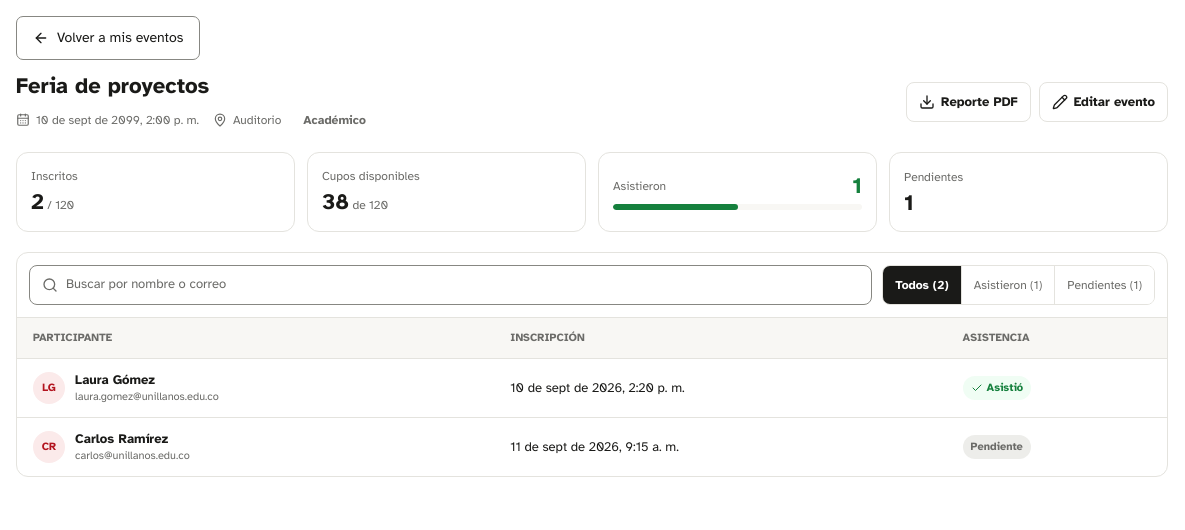
Scenario: ParticipantesEvento › muestra el error del backend si no se puede generar el reporte PDF
Expected: the heading "Feria de proyectos" is shown, [16,72,209,99]
Step 1. Click the button "Reporte PDF" → (968, 102), box [906,82,1031,122]
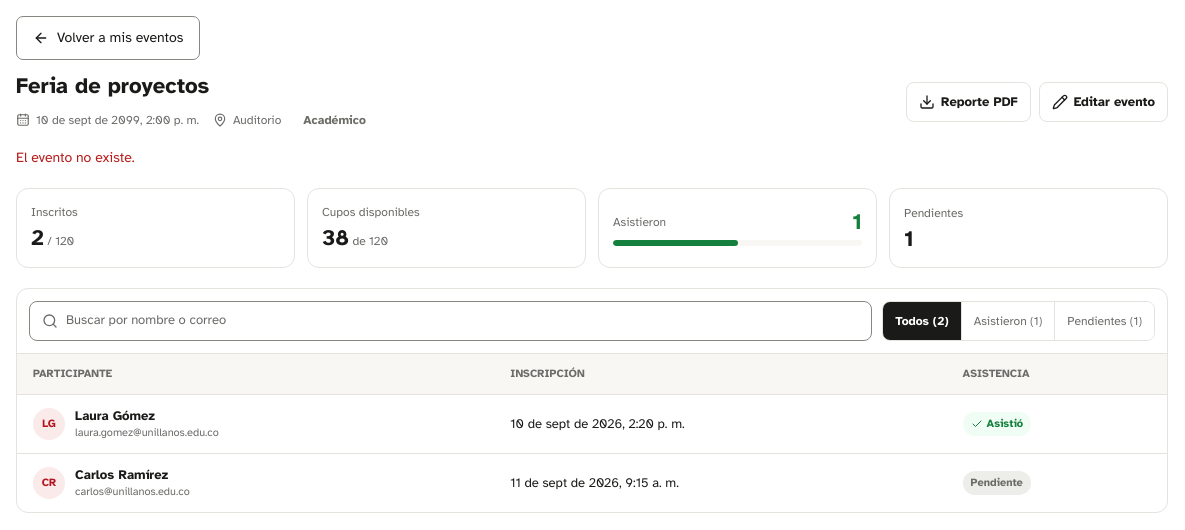
Expected: the message reads "El evento no existe.", [16,149,135,166]
